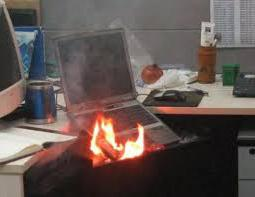fire: (85, 109, 148, 159)
